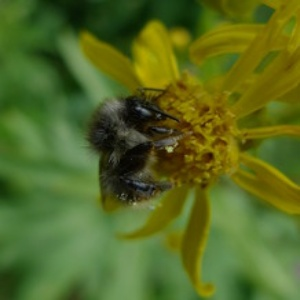bee: (87, 85, 178, 209)
